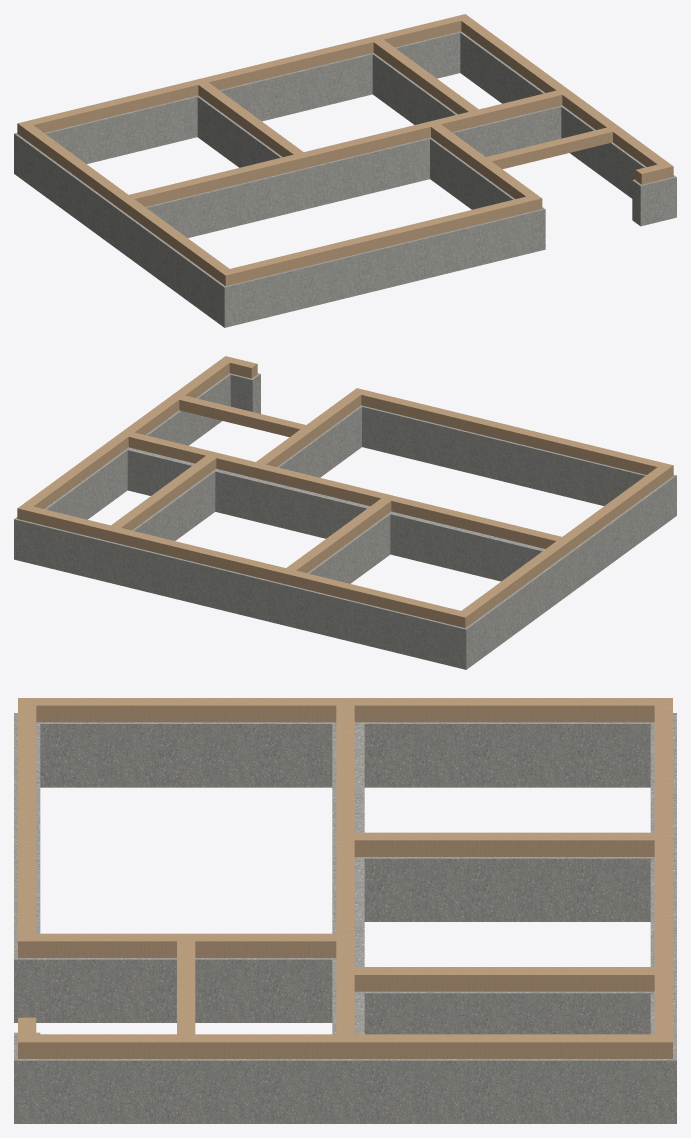
3 renders of one model, top to bottom at view 1: azimuth 30°, elevation 25°; view 2: azimuth 150°, elevation 25°; view 3: azimuth 270°, elevation 25°, orthographic. The views are drawn at different scales.
Visible parts, largest first — view 1: 1_primitive, 2_primitive; view 2: 1_primitive, 2_primitive; view 3: 1_primitive, 2_primitive.
Part boxes in pixels (x1=…): 1_primitive: x1=14, y1=31, x2=676, y2=327; 2_primitive: x1=17, y1=14, x2=673, y2=286; 1_primitive: x1=14, y1=373, x2=676, y2=669; 2_primitive: x1=17, y1=356, x2=673, y2=628; 1_primitive: x1=14, y1=713, x2=676, y2=1123; 2_primitive: x1=18, y1=698, x2=672, y2=1058.
Bounding box in the file's own units: 4.7 × 0.505 × 3.79.
Materials: 2 (2 with a texture image).
